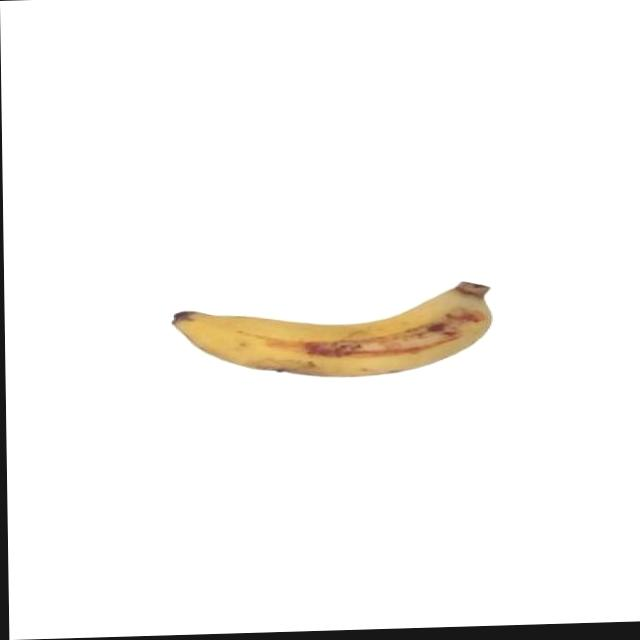banana: (165, 277, 495, 385)
